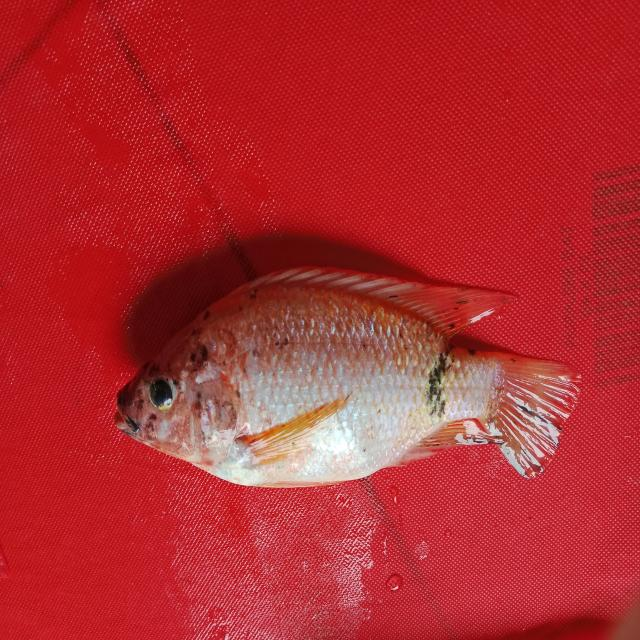ikan: (92, 250, 584, 510)
